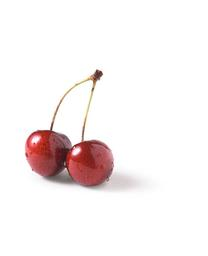cherry: (66, 140, 114, 187), (26, 129, 71, 178)
